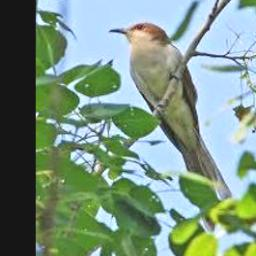Cuckoo: (108, 22, 234, 230)
